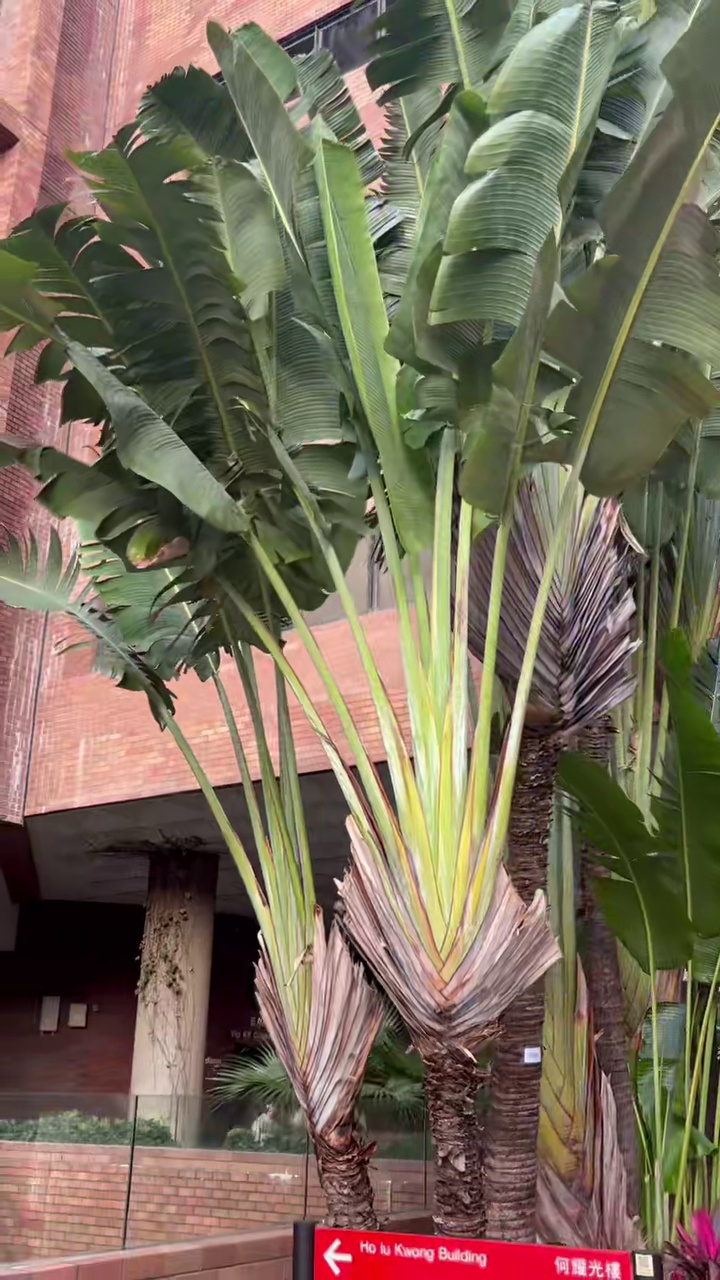Travellers-tree: (0, 0, 719, 1232)
